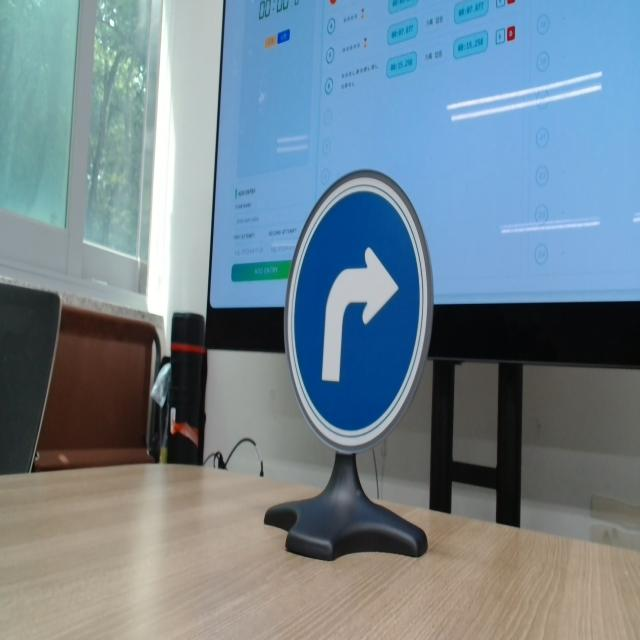right_dierection: (271, 148, 448, 454)
